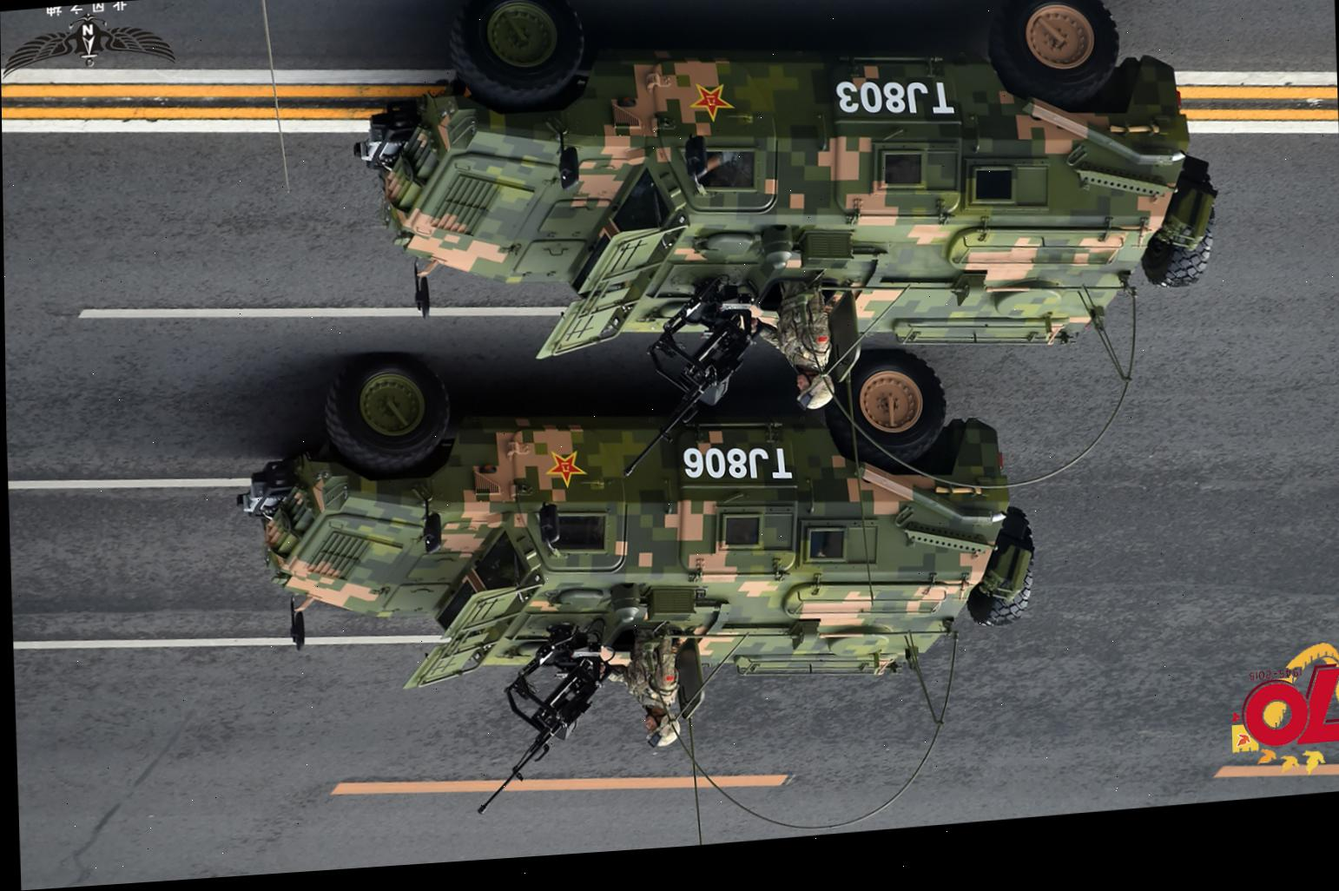armored_car: (220, 298, 1048, 774), (358, 0, 1216, 434)
